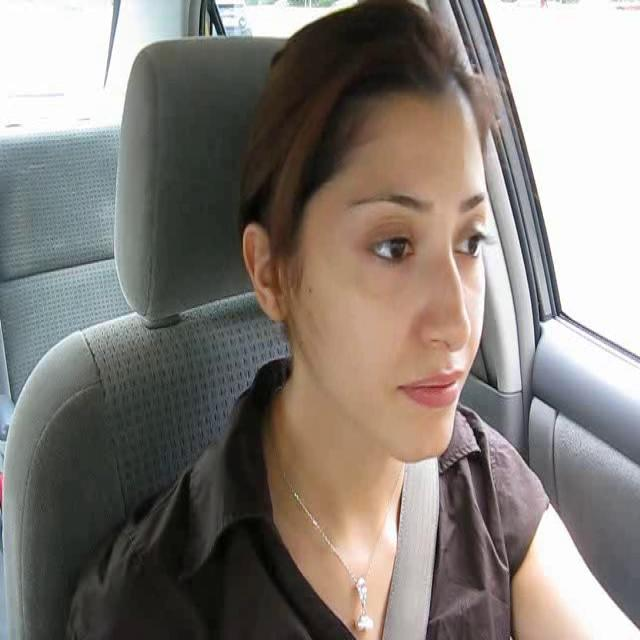close: (397, 366, 464, 410)
